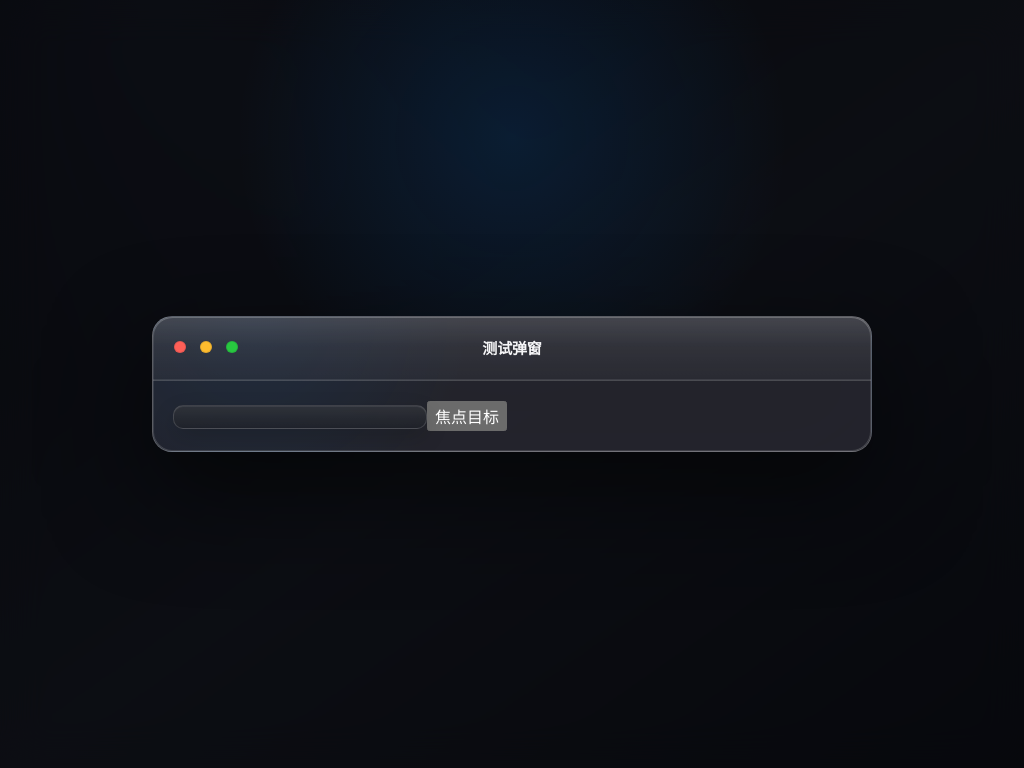
Test: MacDialog real component behavior › restores a minimized changed dialog before asking for confirmation
Type "最小化后仍未保存" into the field with class "slot-input".
click(300, 417); type("最小化后仍未保存")  # box [173,405,427,429]
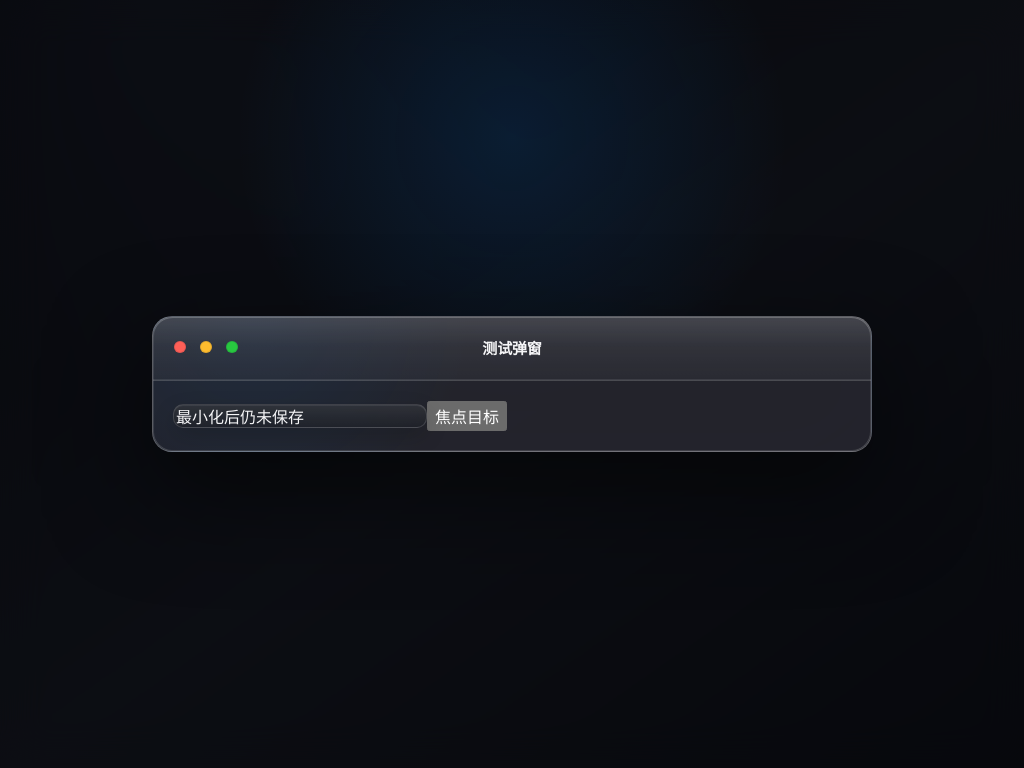
Click the button with class "minimize".
click(206, 346)  # box [194,334,218,358]
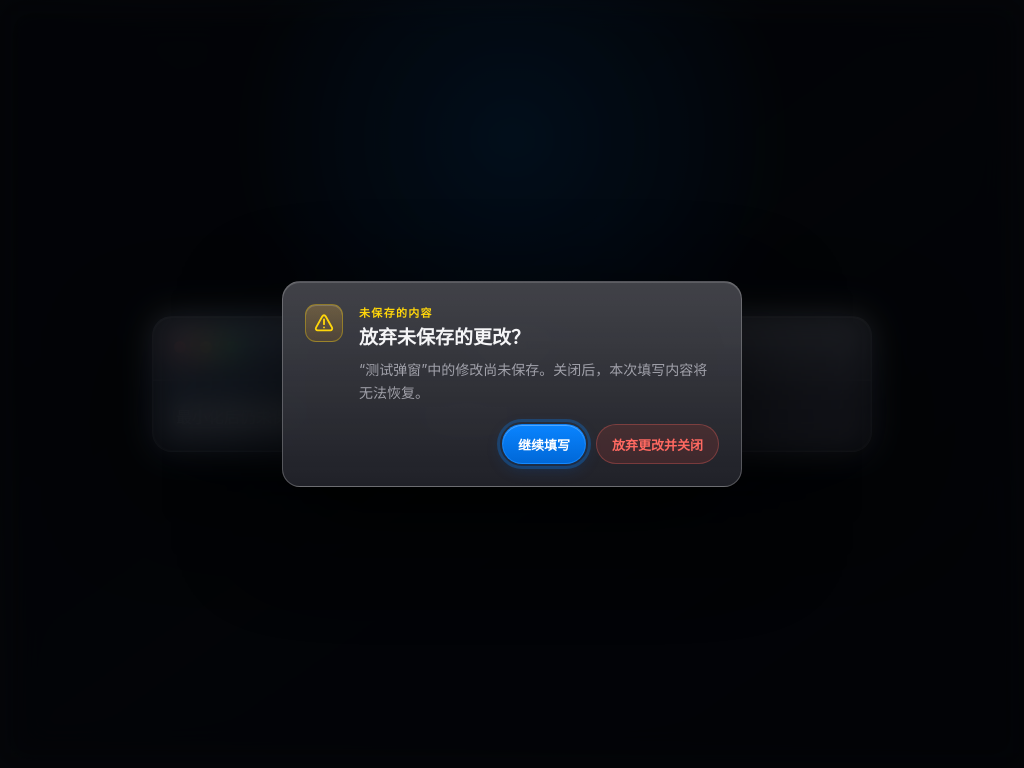
Expected: the dialog with class "mac-dialog-confirm-card" is shown, [282,281,742,487]
